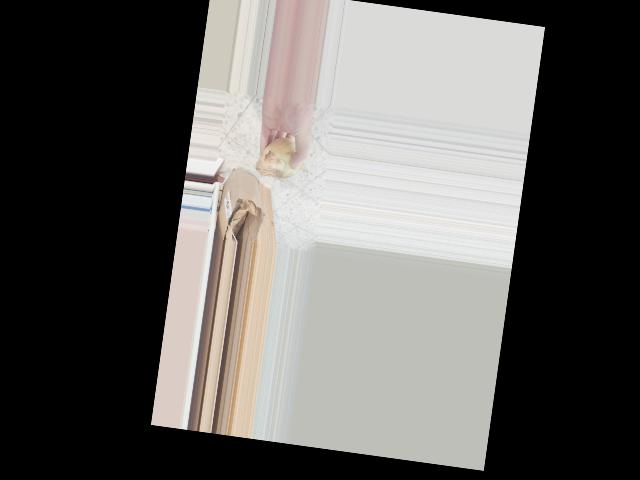onion: (253, 130, 308, 186)
